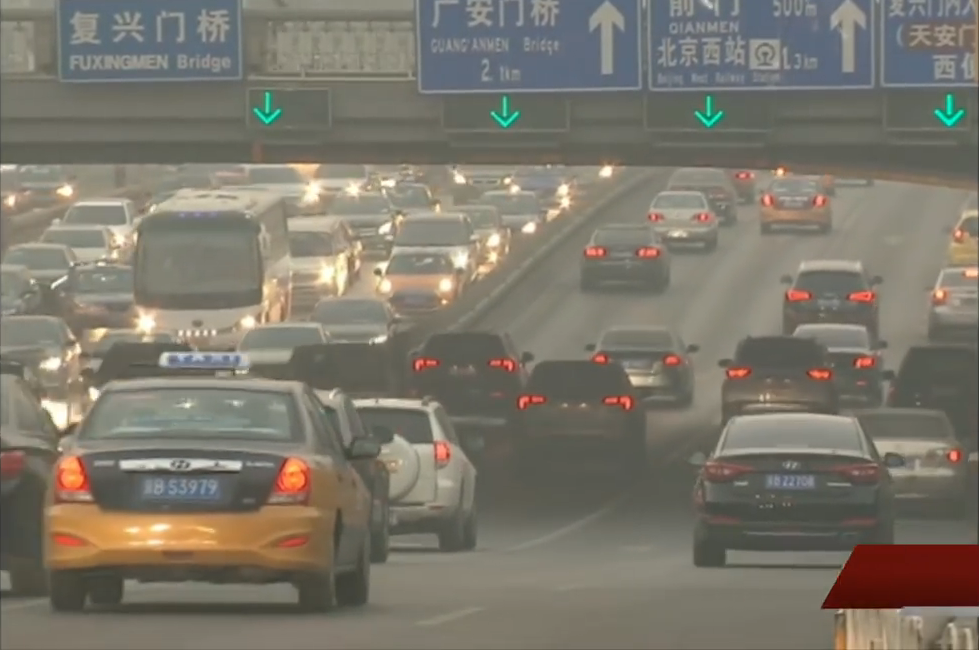bus: (132, 185, 290, 347)
car: (40, 348, 383, 620), (686, 410, 906, 572), (309, 391, 479, 554), (2, 371, 88, 595), (503, 355, 653, 477), (830, 405, 971, 521), (400, 327, 536, 421), (717, 331, 842, 431), (875, 341, 979, 451), (583, 323, 702, 414), (777, 257, 888, 349), (782, 321, 891, 409), (233, 318, 335, 391), (283, 214, 360, 310), (1, 314, 83, 404), (578, 221, 673, 297), (387, 210, 481, 285), (370, 249, 466, 322), (298, 294, 404, 357), (324, 189, 406, 261), (62, 261, 141, 335), (51, 197, 142, 259), (39, 216, 122, 278), (439, 199, 513, 265), (757, 174, 834, 237), (664, 166, 742, 228), (646, 188, 721, 252), (474, 188, 549, 250), (4, 241, 80, 299), (922, 263, 977, 341), (234, 164, 311, 218), (381, 180, 443, 239), (308, 163, 373, 212), (940, 206, 979, 266), (1, 262, 39, 316)
